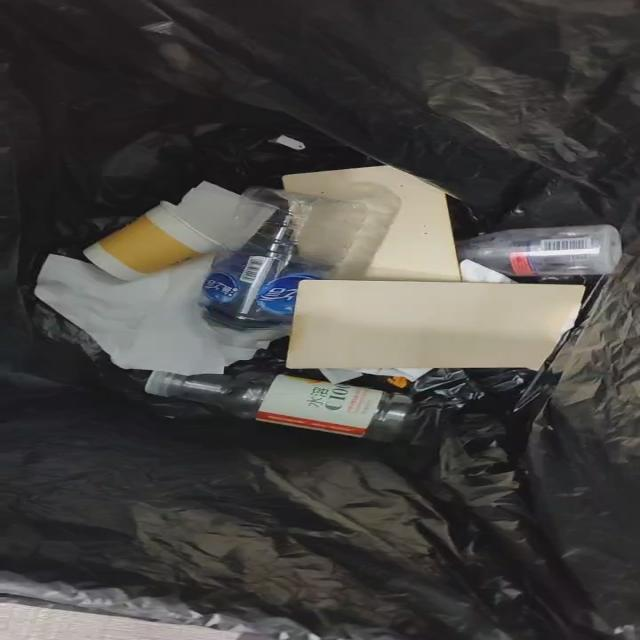bottle: (203, 188, 366, 363), (145, 370, 444, 442), (457, 225, 621, 278)
carton: (291, 280, 582, 368), (284, 166, 460, 282)
dixie_cup: (84, 203, 222, 281)
paper: (35, 255, 235, 375), (165, 182, 244, 248), (321, 368, 428, 383), (460, 259, 512, 283)
